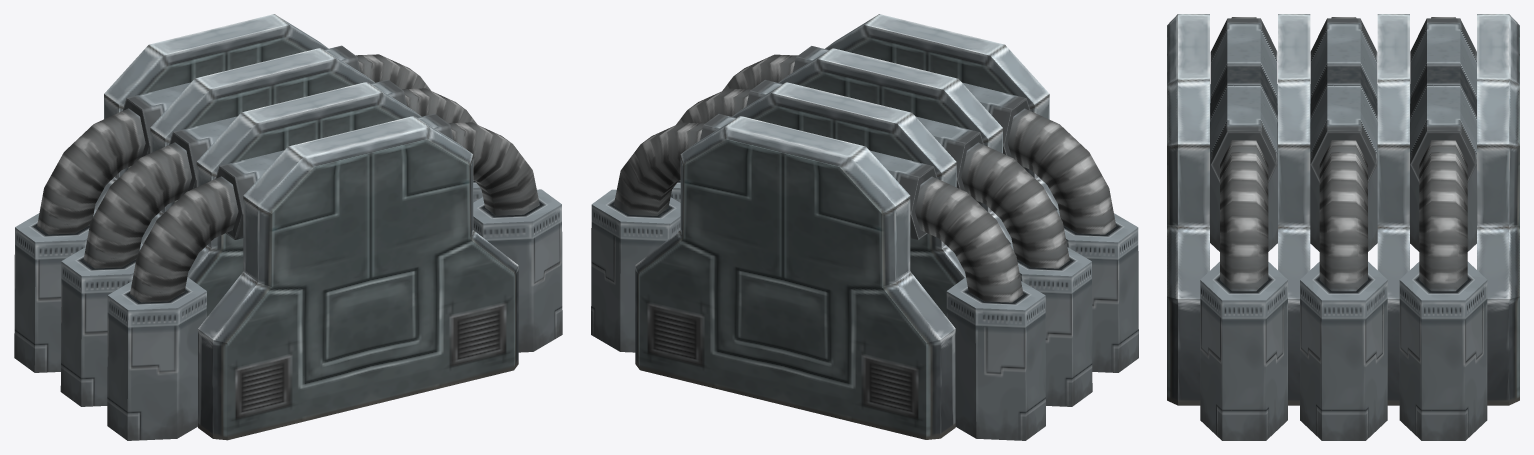
Rendered from Pump.fbx.
The picture shows the model from 3 angles, left to right: view 1: azimuth 30°, elevation 25°; view 2: azimuth 150°, elevation 25°; view 3: azimuth 270°, elevation 25°; orthographic projection. The views are drawn at different scales.
Parts seen in each view (by area): view 1: Pump; view 2: Pump; view 3: Pump.
Boxes of the visible parts, x1,y1,x2,y2 form: Pump: (14, 14, 562, 440); Pump: (591, 14, 1138, 440); Pump: (1167, 14, 1519, 440).
Bounding box in the file's own units: 2.47 × 1.42 × 1.62.
